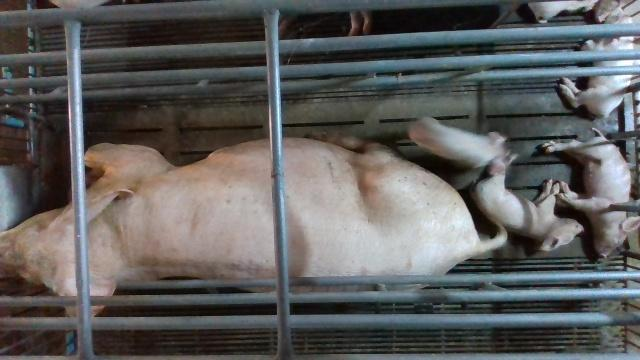piglet: (545, 128, 640, 258), (476, 155, 584, 250), (558, 8, 640, 116), (410, 117, 508, 170)
sow-sit: (0, 140, 508, 319)
